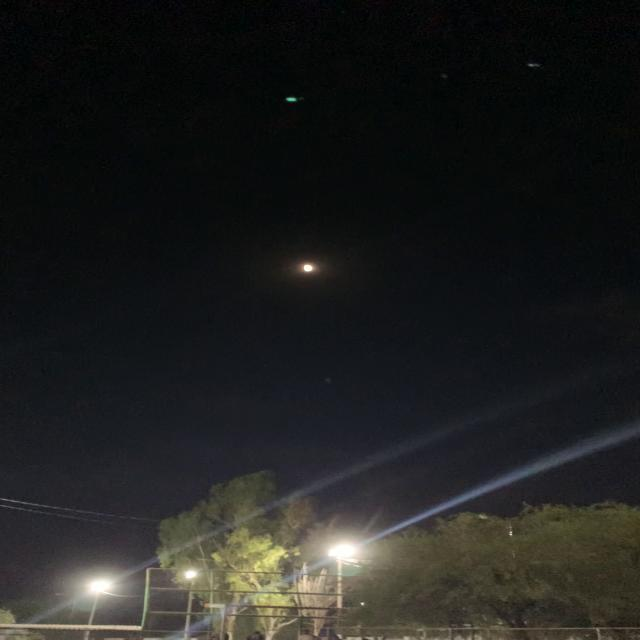moon: (294, 247, 328, 293)
